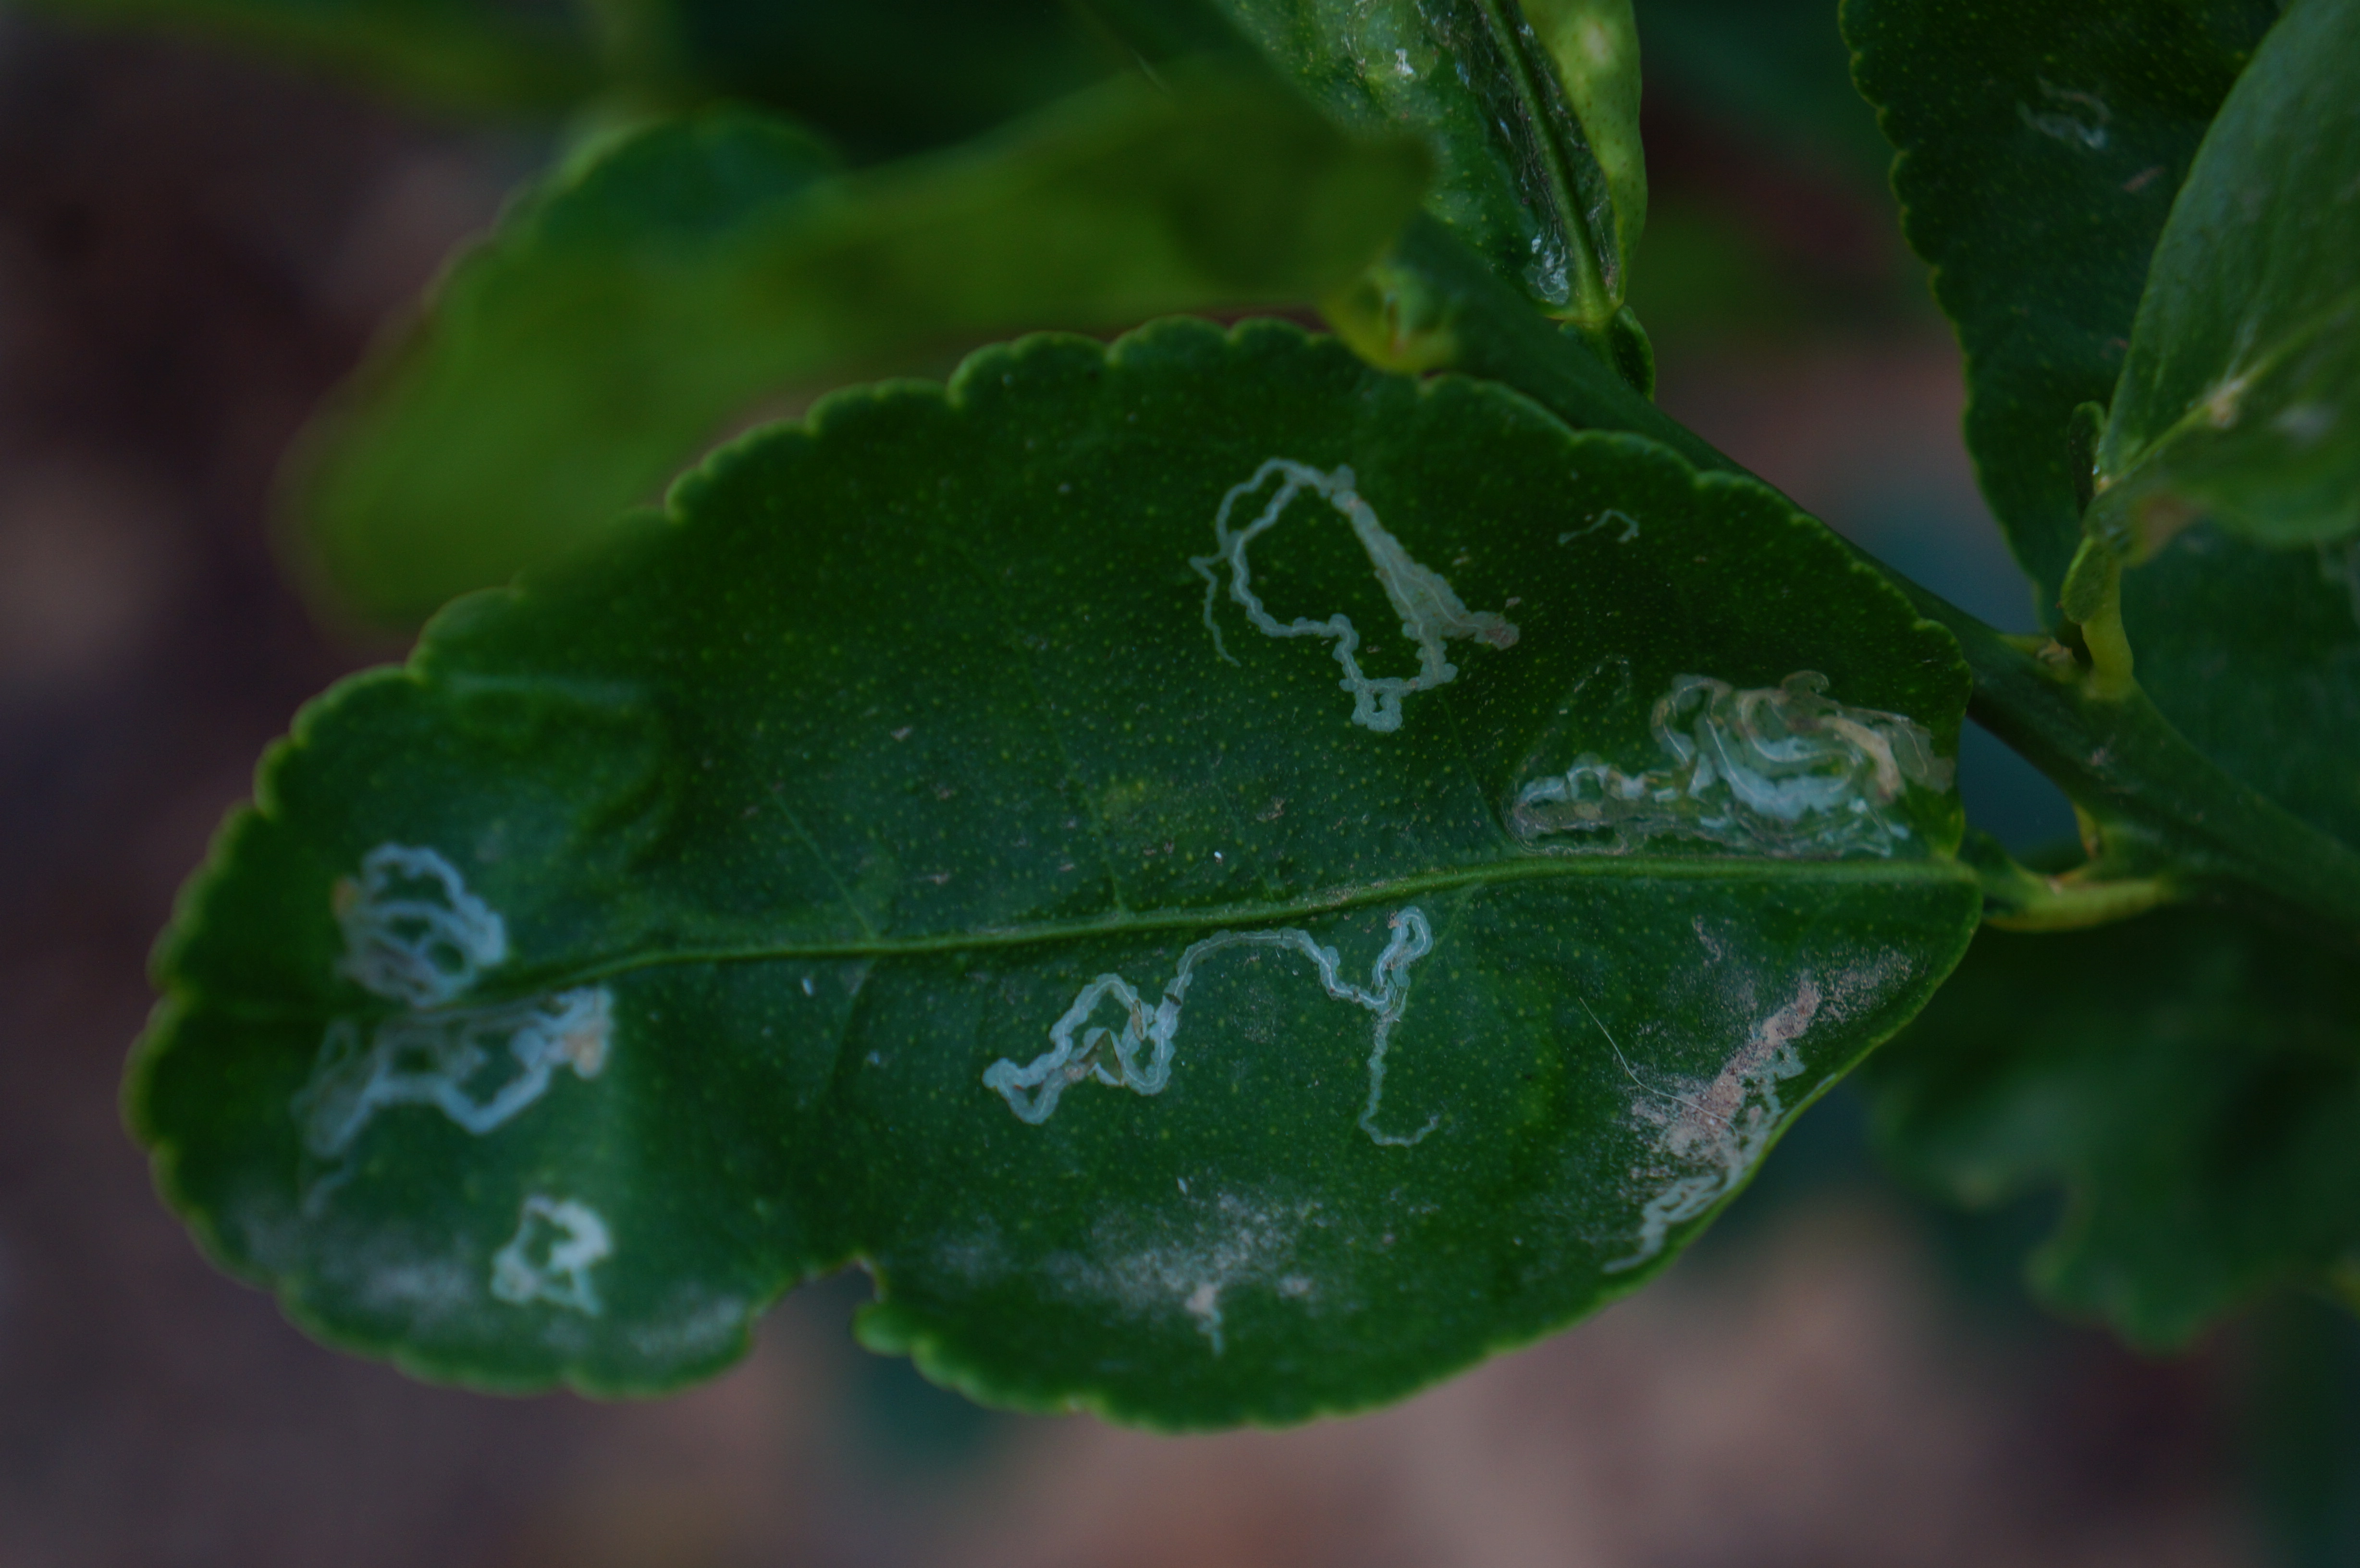damage: (275, 833, 642, 1216), (973, 894, 1468, 1162), (1167, 446, 1543, 768), (1508, 642, 1945, 889), (1594, 1015, 1821, 1295), (476, 1185, 635, 1339)
